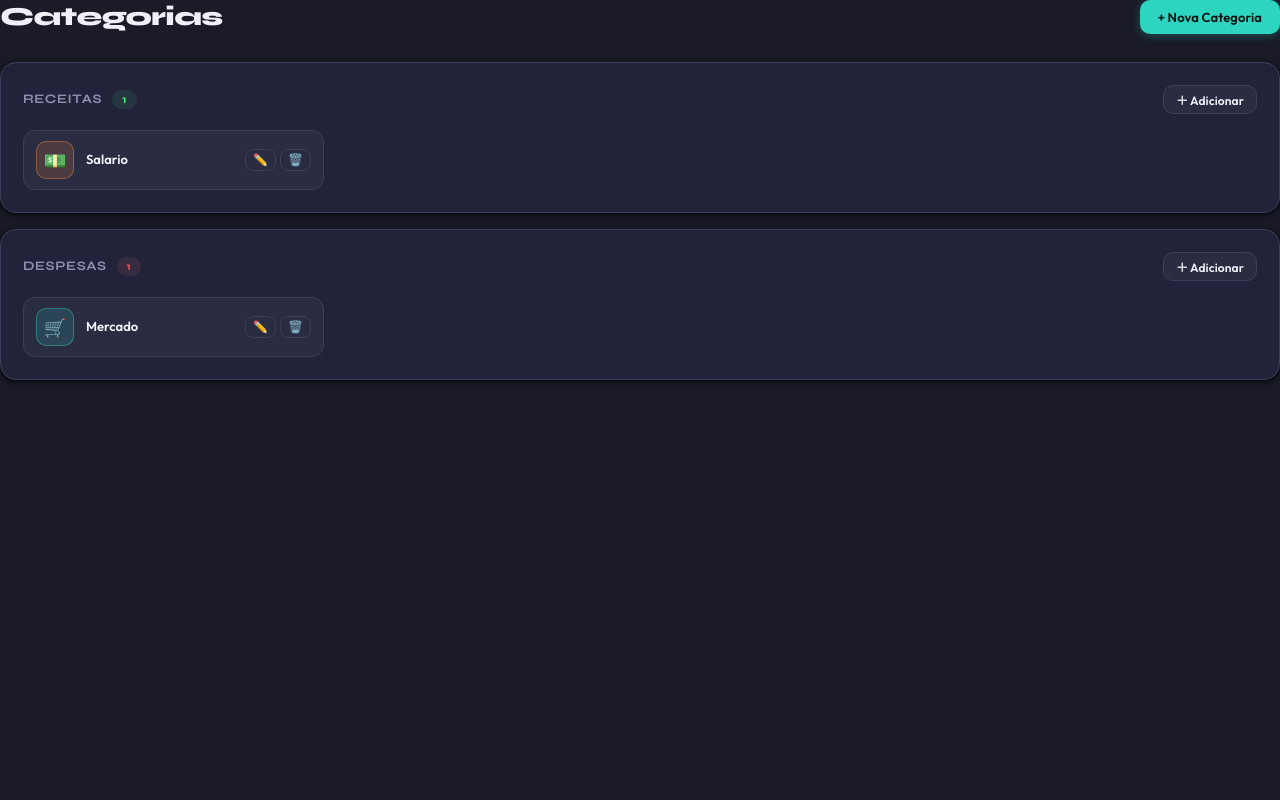
it: CategoriesView delete confirmation › does not delete on the first click, only opens the confirmation
What coordinates should you click on to do the following:
click the button named "Excluir Mercado"
I would click on:
 (296, 327)
Its box is [280,316,311,338].
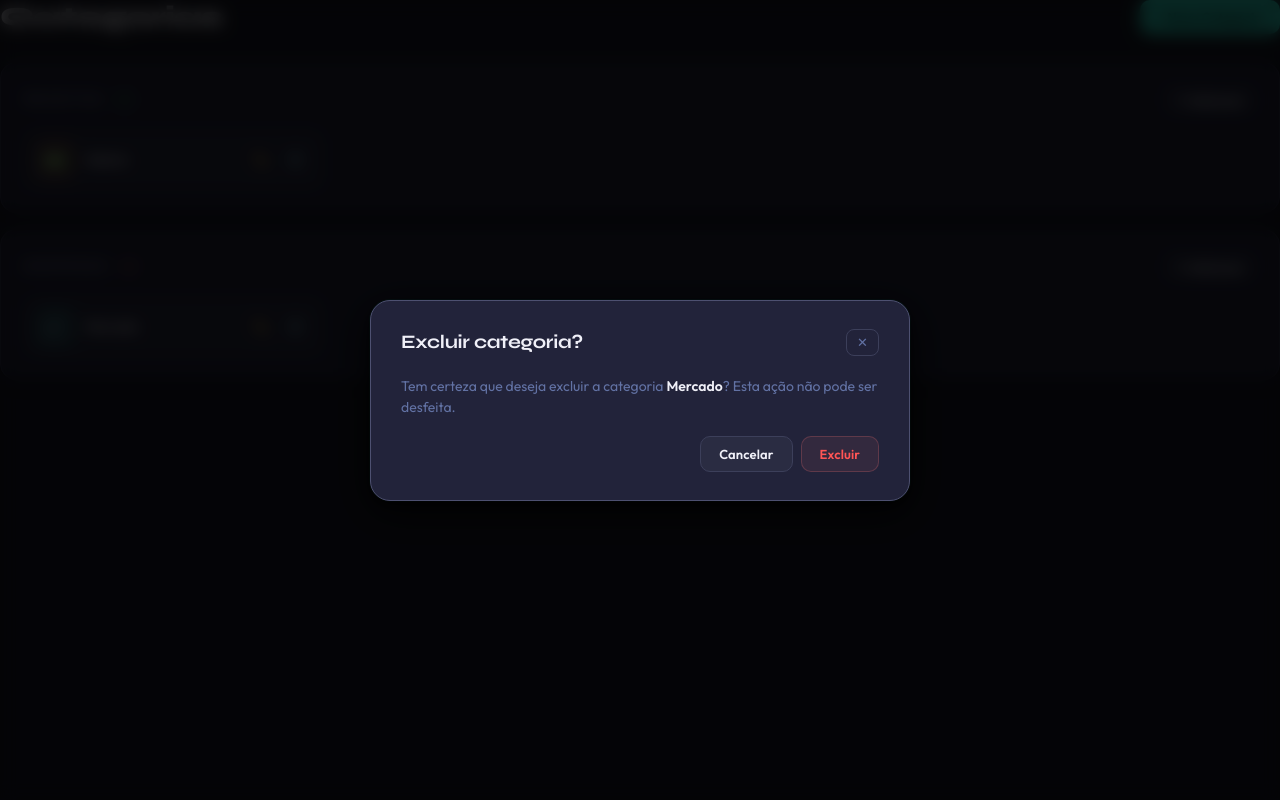
Expected: the heading "Excluir categoria?" is shown, [401,331,583,353]
